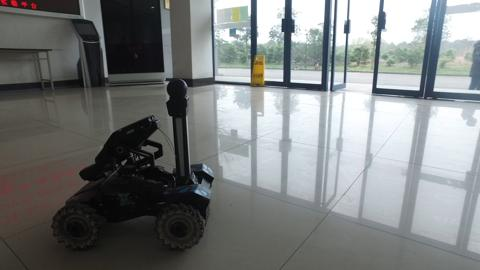chariot: (40, 70, 224, 259)
